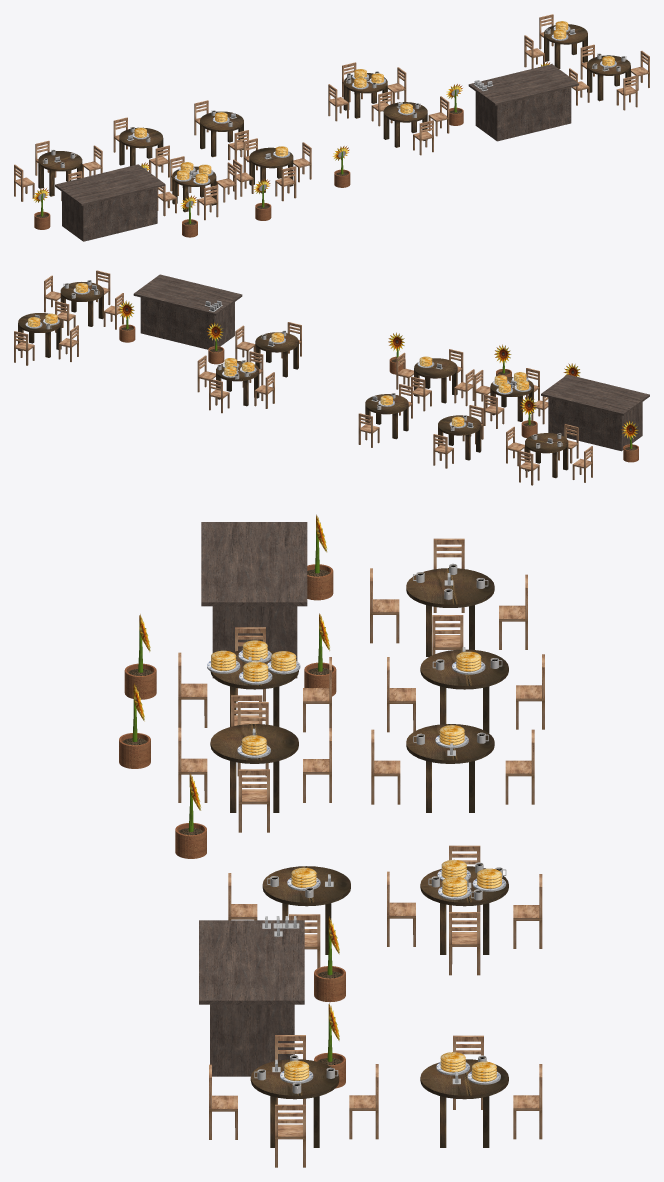
The model's file is decorestaurante.fbx.
3 renders of one model, top to bottom at view 1: azimuth 30°, elevation 25°; view 2: azimuth 150°, elevation 25°; view 3: azimuth 270°, elevation 25°, orthographic. The views are drawn at different scales.
Visible parts, largest first — view 1: Cube.001, Cube.031, Circle, Circle.006, Circle.001, Circle.007, Circle.002, Circle.008, Circle.004, Circle.005, Circle.003, Cylinder.037 (+21 smaller); view 2: Cube.031, Cube.001, Circle, Circle.002, Circle.006, Circle.001, Circle.004, Circle.007, Circle.008, Circle.005, Circle.003, Cylinder.034 (+24 smaller); view 3: Cube.031, Cube.001, Circle, Circle.002, Circle.004, Circle.001, Circle.007, Circle.008, Circle.006, Circle.005, Cylinder.033, Cylinder.038 (+9 smaller).
Boxes of the visible parts, bbox=[...] form: Cube.001: bbox=[55, 164, 165, 241]; Cube.031: bbox=[468, 64, 578, 141]; Circle: bbox=[38, 151, 82, 196]; Circle.006: bbox=[383, 102, 427, 147]; Circle.001: bbox=[200, 111, 243, 157]; Circle.007: bbox=[587, 55, 630, 101]; Circle.002: bbox=[249, 147, 293, 193]; Circle.008: bbox=[544, 24, 587, 68]; Circle.004: bbox=[119, 127, 163, 166]; Circle.005: bbox=[343, 73, 387, 118]; Circle.003: bbox=[172, 166, 216, 212]; Cylinder.037: bbox=[332, 146, 350, 187]; Cube.031: bbox=[133, 274, 242, 349]; Cube.001: bbox=[541, 374, 649, 451]; Circle: bbox=[525, 433, 568, 478]; Circle.002: bbox=[414, 358, 457, 403]; Circle.006: bbox=[255, 332, 298, 377]; Circle.001: bbox=[365, 394, 408, 439]; Circle.004: bbox=[438, 415, 481, 460]; Circle.007: bbox=[60, 282, 103, 326]; Circle.008: bbox=[18, 313, 61, 357]; Circle.005: bbox=[216, 361, 259, 406]; Circle.003: bbox=[490, 377, 533, 421]; Cylinder.034: bbox=[118, 300, 135, 342]; Cube.031: bbox=[199, 920, 304, 1076]; Cube.001: bbox=[201, 522, 307, 678]; Circle: bbox=[406, 568, 494, 656]; Circle.002: bbox=[210, 724, 298, 812]; Circle.004: bbox=[420, 649, 508, 733]; Circle.001: bbox=[406, 724, 494, 812]; Circle.007: bbox=[250, 1059, 339, 1147]; Circle.008: bbox=[420, 1059, 508, 1147]; Circle.006: bbox=[262, 866, 350, 954]; Circle.005: bbox=[420, 866, 508, 954]; Cylinder.033: bbox=[314, 916, 345, 1002]; Cylinder.038: bbox=[119, 683, 150, 768].
Bounding box in the file's own units: 3267 × 234 × 1006.
